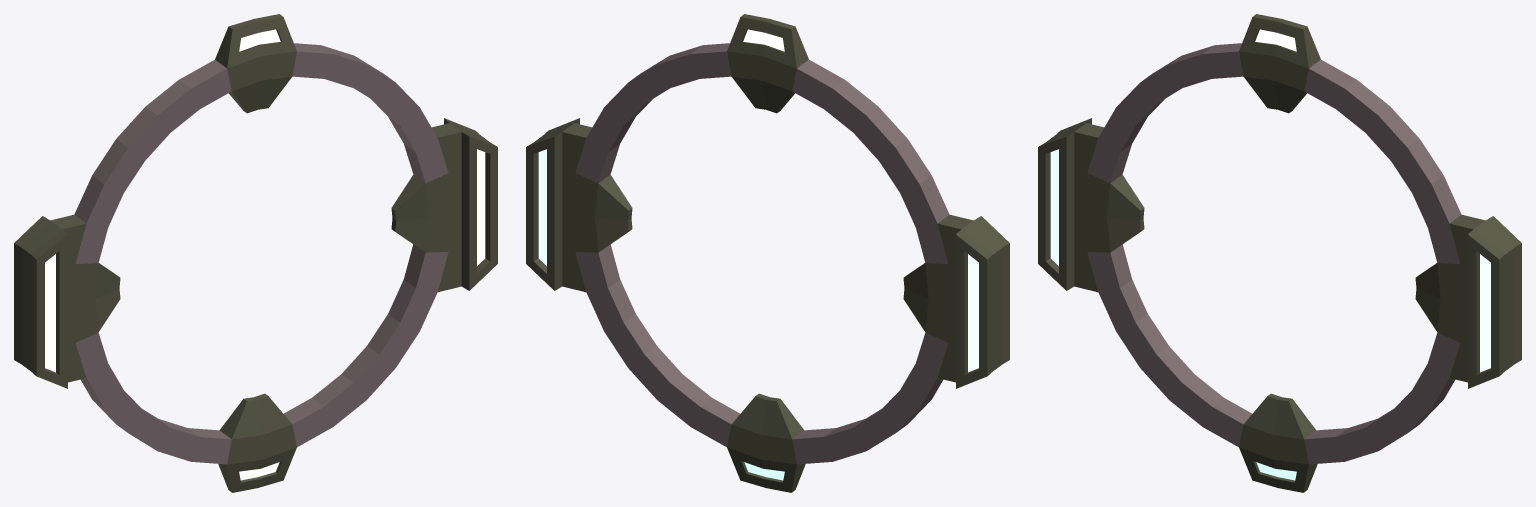
File: spaceGate.fbx
3 views of the same model, side by side, from view 1: azimuth 30°, elevation 25°; view 2: azimuth 150°, elevation 25°; view 3: azimuth 330°, elevation 25° (orthographic).
Parts seen in each view (by area): view 1: Circle; view 2: Circle; view 3: Circle.
Boxes of the visible parts, x1,y1,x2,y2 form: Circle: (14, 14, 497, 492); Circle: (526, 14, 1009, 492); Circle: (1038, 14, 1521, 492).
Size of the model in its own units: 239 by 231 by 22.86.
